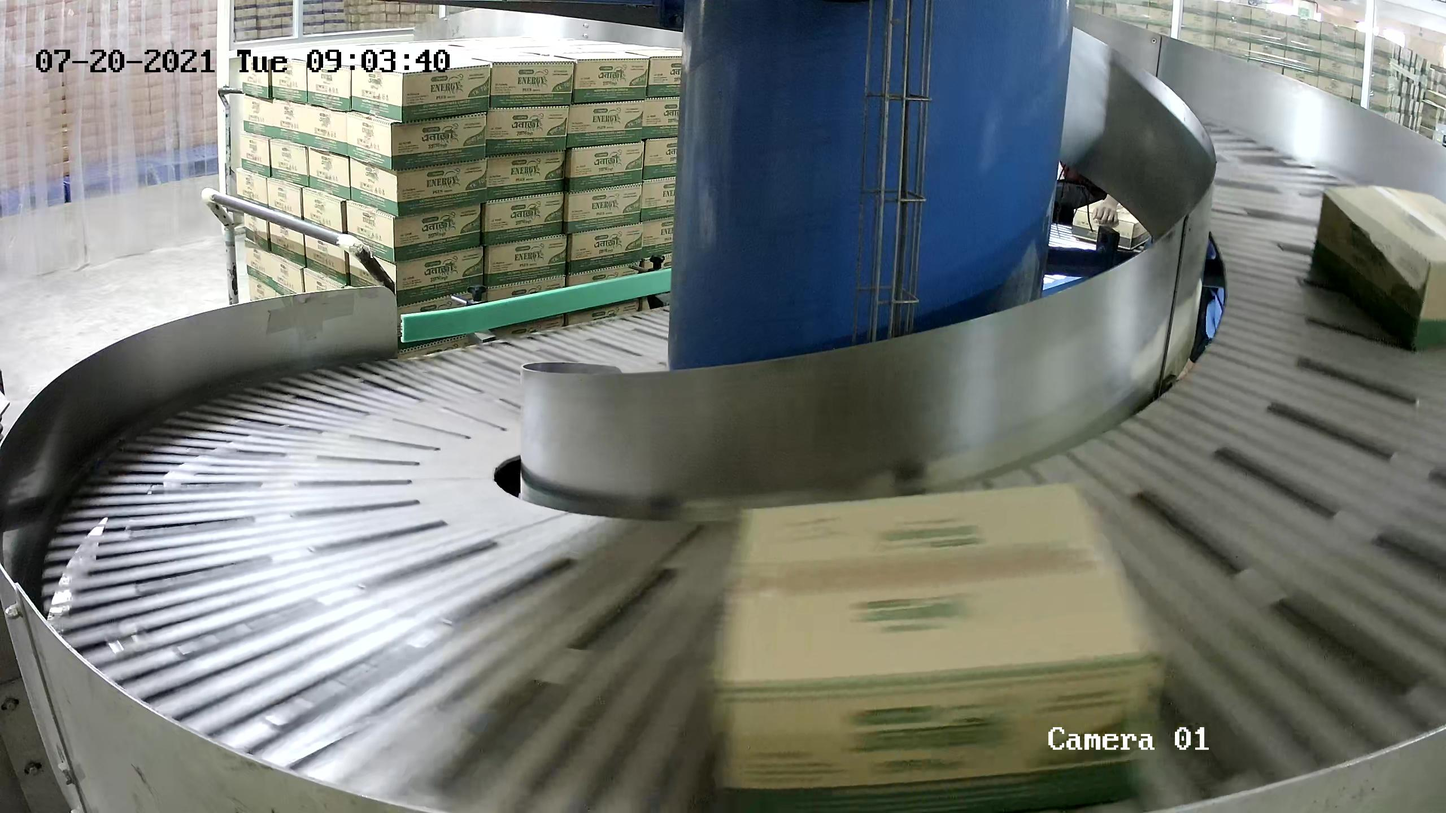Box: (707, 477, 1172, 813), (1310, 182, 1446, 353)
